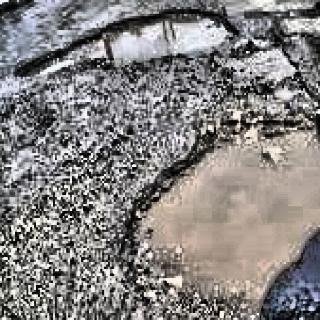pothole: (122, 100, 320, 320), (12, 8, 240, 81), (230, 38, 300, 87)
